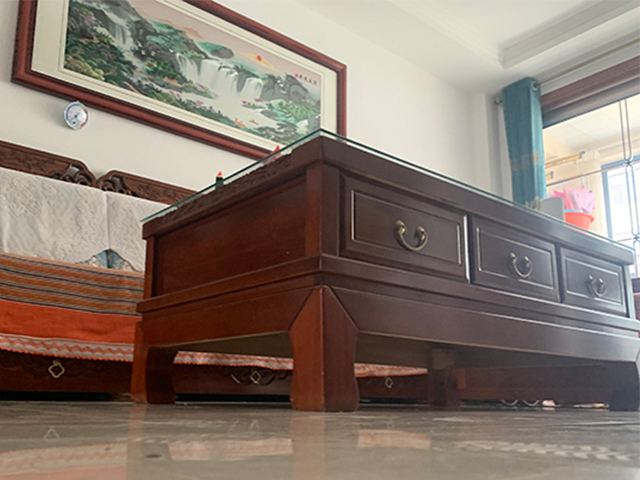sofa: (1, 135, 174, 401)
table: (129, 127, 640, 414)
